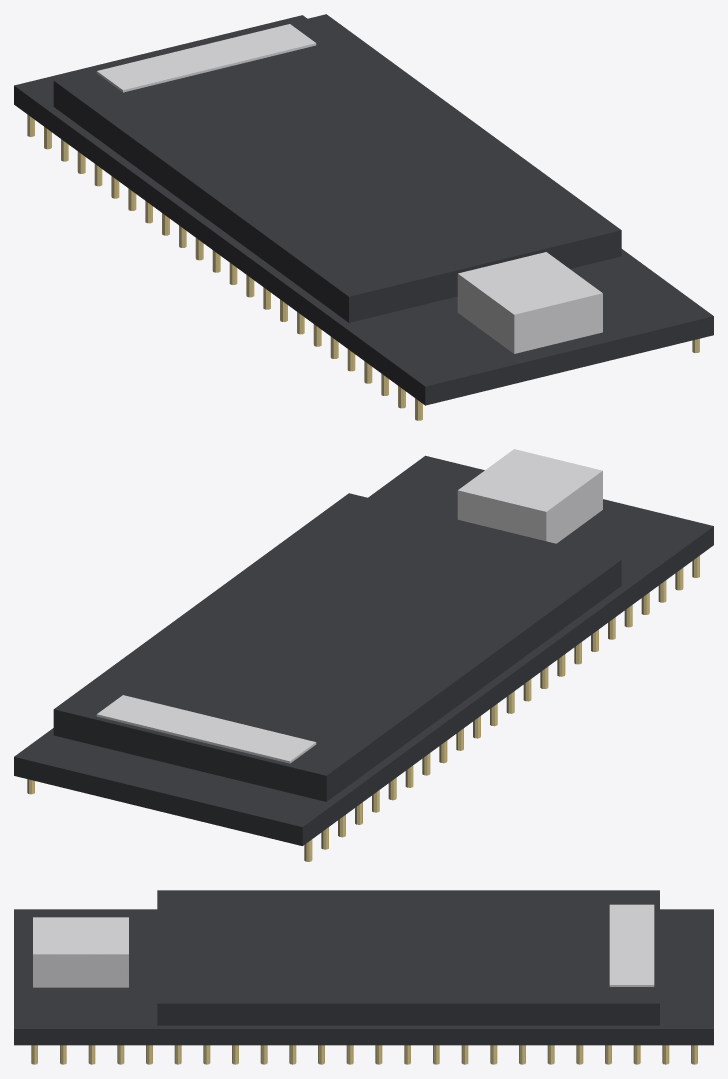
File: esp32-s3.glb
3 views of the same model, one above another, from view 1: azimuth 30°, elevation 25°; view 2: azimuth 150°, elevation 25°; view 3: azimuth 270°, elevation 25° (orthographic). The views are drawn at different scales.
Parts seen in each view (by area): view 1: esp32_ant, esp32_pcb, esp32_usb, esp32_shield; view 2: esp32_ant, esp32_pcb, esp32_usb, esp32_shield; view 3: esp32_ant, esp32_pcb, esp32_usb, esp32_shield.
Boxes of the visible parts, x1,y1,x2,y2 form: esp32_ant: (53, 14, 621, 322); esp32_pcb: (14, 15, 713, 405); esp32_usb: (457, 252, 602, 353); esp32_shield: (96, 24, 316, 92); esp32_ant: (53, 493, 621, 801); esp32_pcb: (14, 455, 713, 845); esp32_usb: (457, 449, 602, 543); esp32_shield: (96, 695, 316, 763); esp32_ant: (157, 890, 659, 1025); esp32_pcb: (14, 909, 713, 1045); esp32_usb: (33, 917, 128, 987); esp32_shield: (609, 904, 654, 986).
Size of the model in its own units: 0.0254 by 0.0069 by 0.0627.
